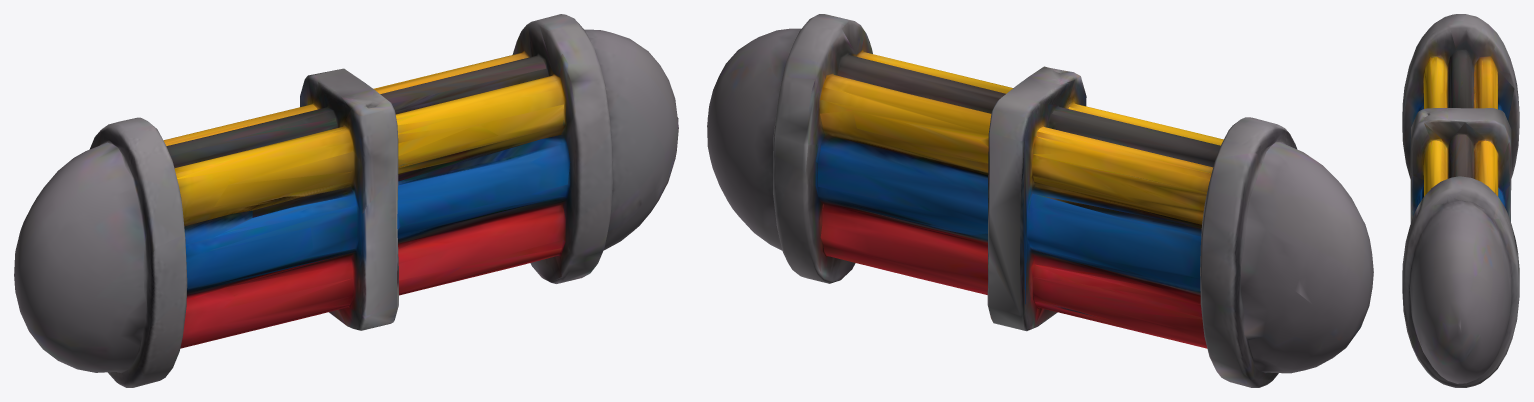
File: pipes_end_caps_idle.glb
3 views of the same model, side by side, from view 1: azimuth 30°, elevation 25°; view 2: azimuth 150°, elevation 25°; view 3: azimuth 270°, elevation 25° (orthographic). The views are drawn at different scales.
Parts seen in each view (by area): view 1: pipes_end_caps; view 2: pipes_end_caps; view 3: pipes_end_caps.
Part boxes in pixels (left/top/right/bottom): pipes_end_caps: left=14, top=14, right=678, bottom=387; pipes_end_caps: left=707, top=14, right=1373, bottom=387; pipes_end_caps: left=1402, top=14, right=1519, bottom=387.
Bounding box in the file's own units: 1.28 × 0.4771 × 0.2514.
Materials: 1 (1 with a texture image).
